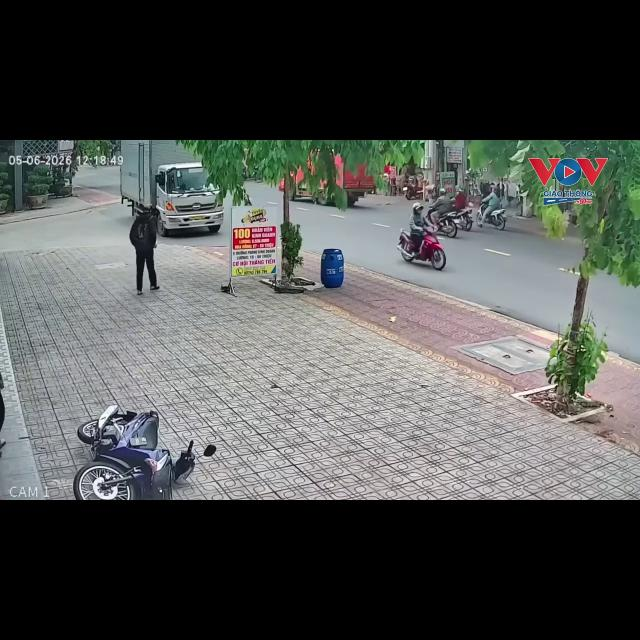motorcycle: (73, 405, 195, 499), (397, 225, 445, 270), (435, 211, 459, 238), (77, 420, 98, 444), (403, 176, 423, 200), (456, 203, 472, 231), (486, 208, 506, 230)
truck: (120, 140, 223, 236), (335, 155, 375, 205)
